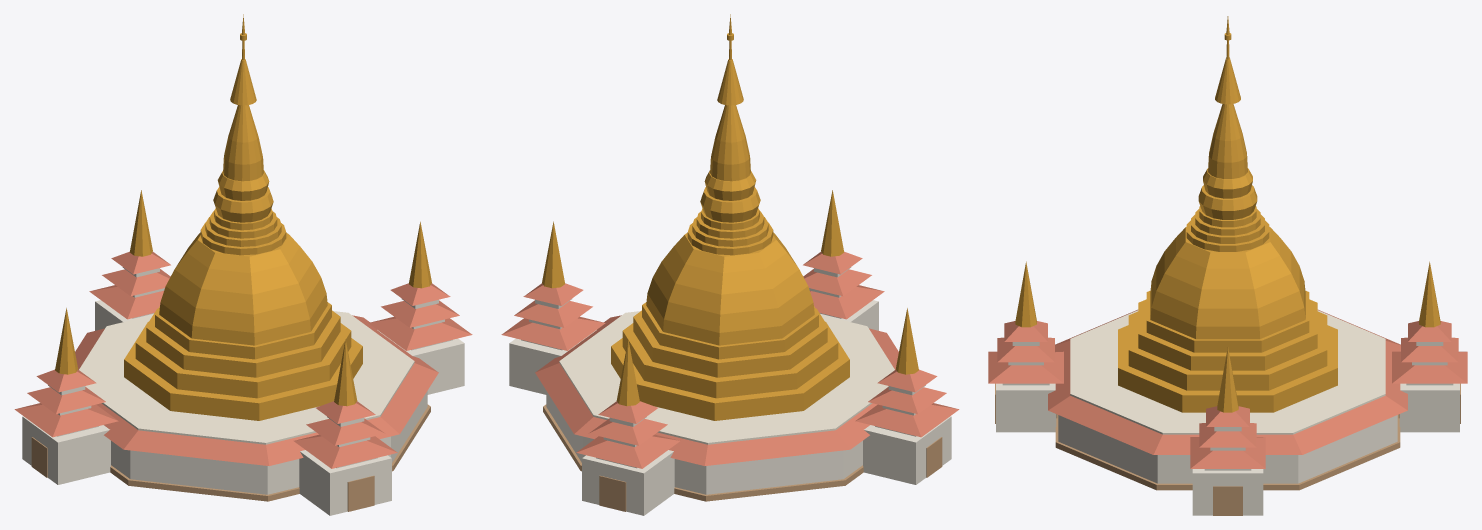
File: sule.glb
3 renders of one model, left to right at view 1: azimuth 30°, elevation 25°; view 2: azimuth 150°, elevation 25°; view 3: azimuth 270°, elevation 25°, orthographic.
Visible parts, largest first — view 1: part; view 2: part; view 3: part.
Part boxes in pixels (x1=…): part: x1=14, y1=14, x2=472, y2=515; part: x1=501, y1=14, x2=959, y2=515; part: x1=988, y1=16, x2=1467, y2=515.
Bounding box in the file's own units: 47.5 × 44.13 × 47.5.
